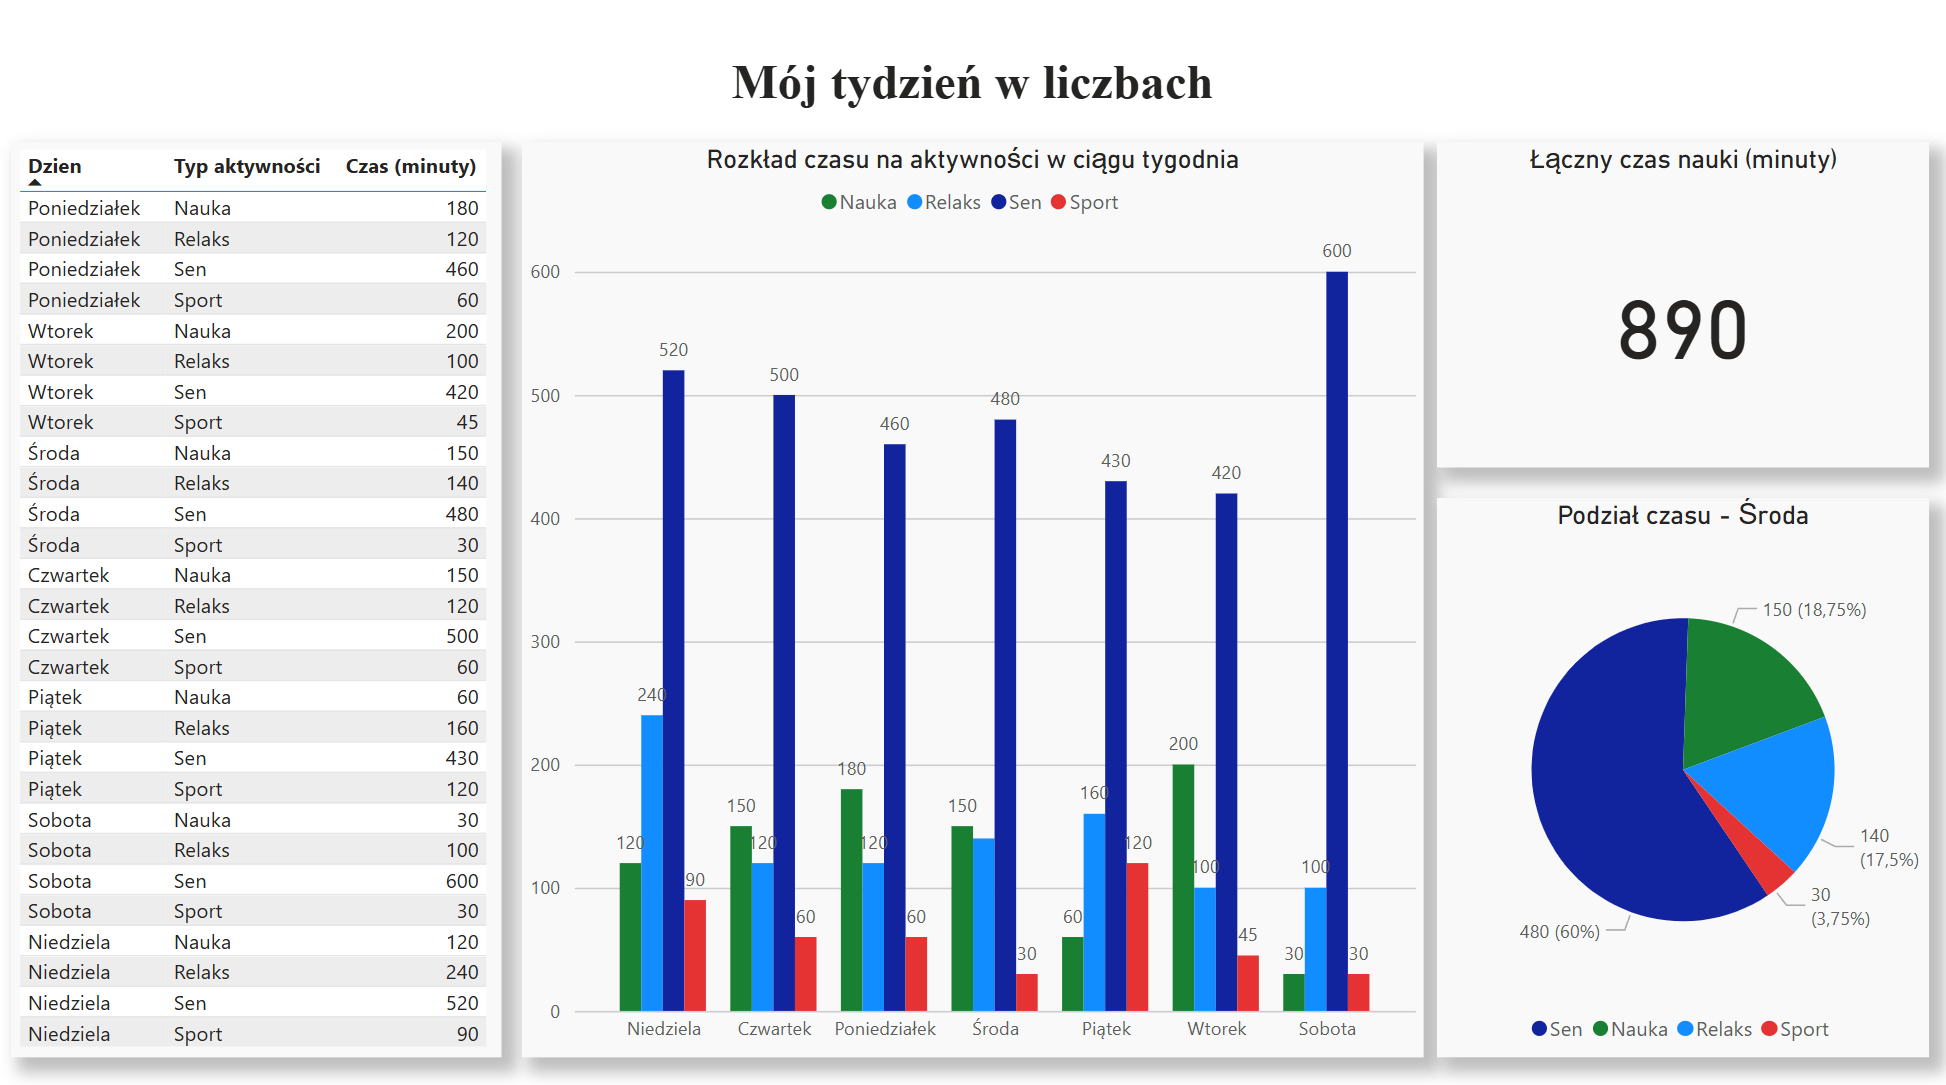

Layout of this report page (visuals, bound fields, positions):
{"tool":"powerbi","page":{"name":"Analiza Aktywności","canvas":[1280,720],"ordinal":0},"visuals":[{"type":"tableEx","fields":{"Values":["DniTygodnia.Dzien","aktywnosc.Typ_aktywności","aktywnosc.Czas (minuty)"]},"box":[10.4,96.2,321.5,599],"z":0},{"type":"textbox","box":[358,33.4,563.4,62.8],"z":1000},{"type":"clusteredColumnChart","title":"Rozkład czasu na aktywności w ciągu tygodnia","fields":{"Category":["aktywnosc.Dzien"],"Y":["Sum(aktywnosc.Czas (minuty))"],"Series":["aktywnosc.Typ_aktywności"]},"box":[344.6,96.2,590,599],"z":2000},{"type":"pieChart","title":"Podział czasu - Środa","fields":{"Category":["aktywnosc.Typ_aktywności"],"Y":["Sum(aktywnosc.Czas (minuty))"]},"box":[943.6,329,322.2,366.2],"z":3000},{"type":"card","title":"Łączny czas nauki (minuty)","fields":{"Values":["Sum(aktywnosc.Czas (minuty))"]},"box":[943.6,96.2,322.2,212.6],"z":4000}]}

Visuals, with their boxes in screenshot pixels (x1, y1, x2, y2), scaled from the page's 1280x720 canvas onto the 1946x1085 screenshot:
tableEx - DniTygodnia.Dzien x aktywnosc.Typ_aktywności: 16, 145, 505, 1048
textbox: 544, 50, 1401, 145
"Rozkład czasu na aktywności w ciągu tygodnia" clusteredColumnChart: 524, 145, 1421, 1048
"Podział czasu - Środa" pieChart: 1435, 496, 1924, 1048
"Łączny czas nauki (minuty)" card: 1435, 145, 1924, 465
